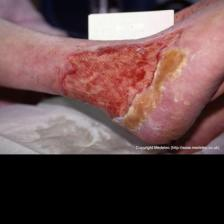Wound: (57, 27, 185, 132)
